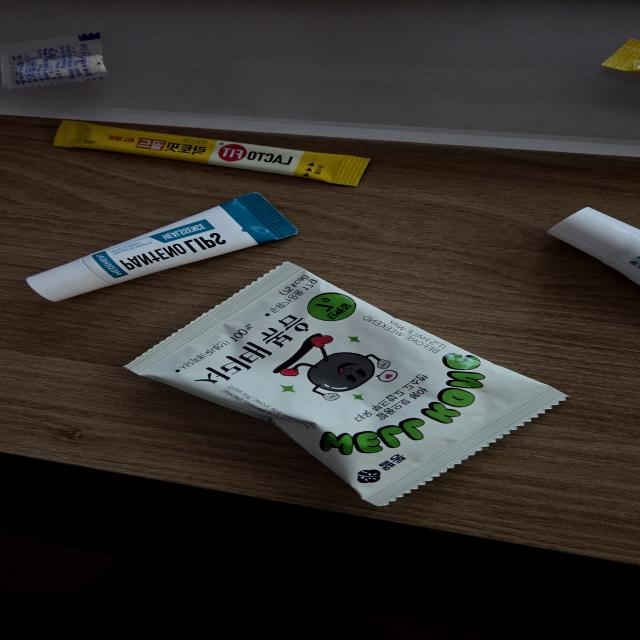lacto: (51, 120, 374, 186)
lib: (23, 190, 297, 305), (545, 208, 639, 280)
salt: (0, 32, 110, 93)
